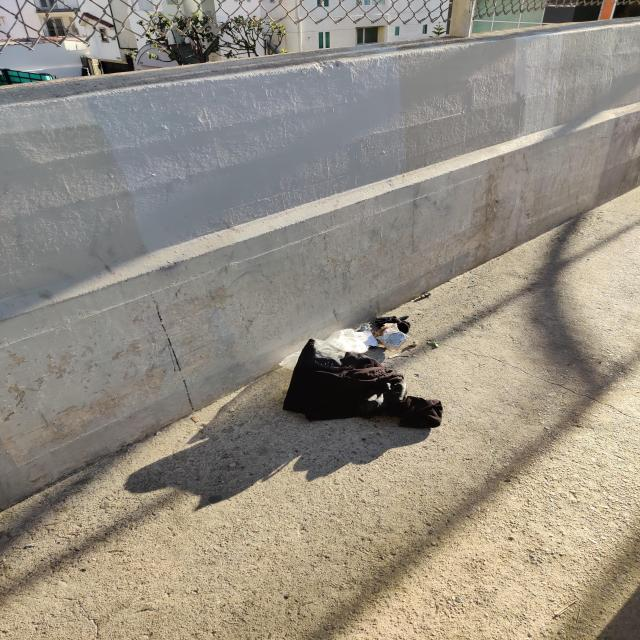litter: (287, 337, 439, 432), (280, 328, 368, 368), (371, 315, 415, 331), (377, 327, 413, 345)
